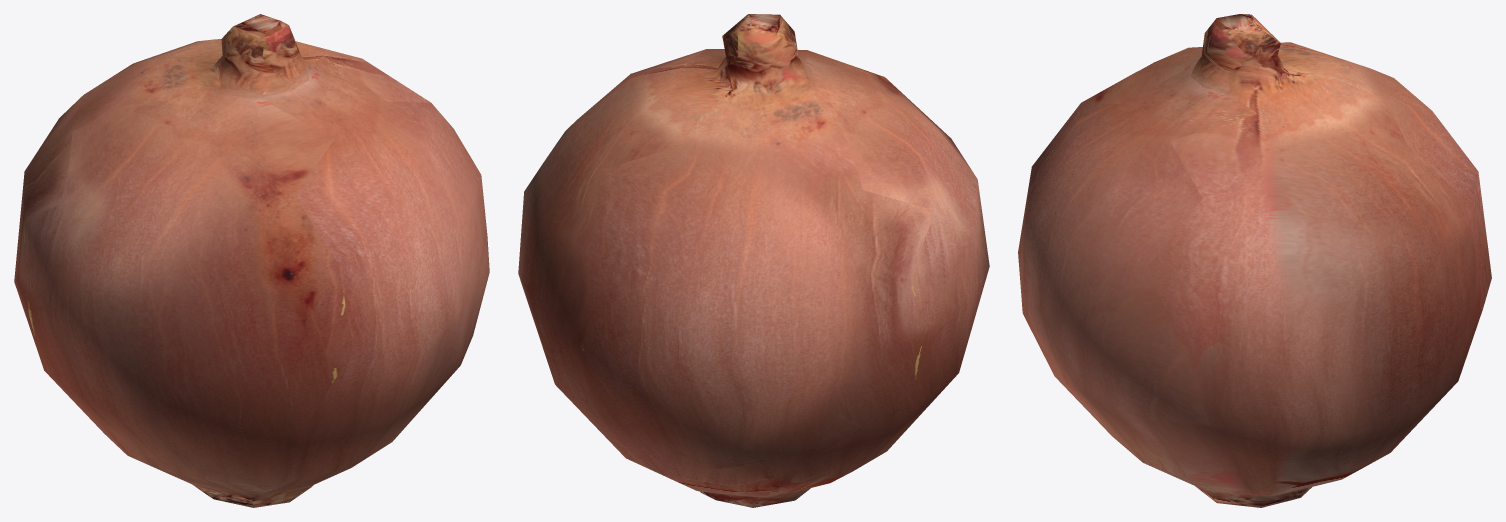
Rendered from onion.glb.
The picture shows the model from 3 angles, left to right: view 1: azimuth 30°, elevation 25°; view 2: azimuth 150°, elevation 25°; view 3: azimuth 270°, elevation 25°; orthographic projection.
Visible parts, largest first — view 1: Onion; view 2: Onion; view 3: Onion.
Part boxes in pixels (left/top/right/bottom): Onion: left=14, top=14, right=489, bottom=507; Onion: left=518, top=14, right=989, bottom=507; Onion: left=1018, top=14, right=1491, bottom=507.
Size of the model in its own units: 9.86 by 10.75 by 9.85.
1 material, 1 textured.
